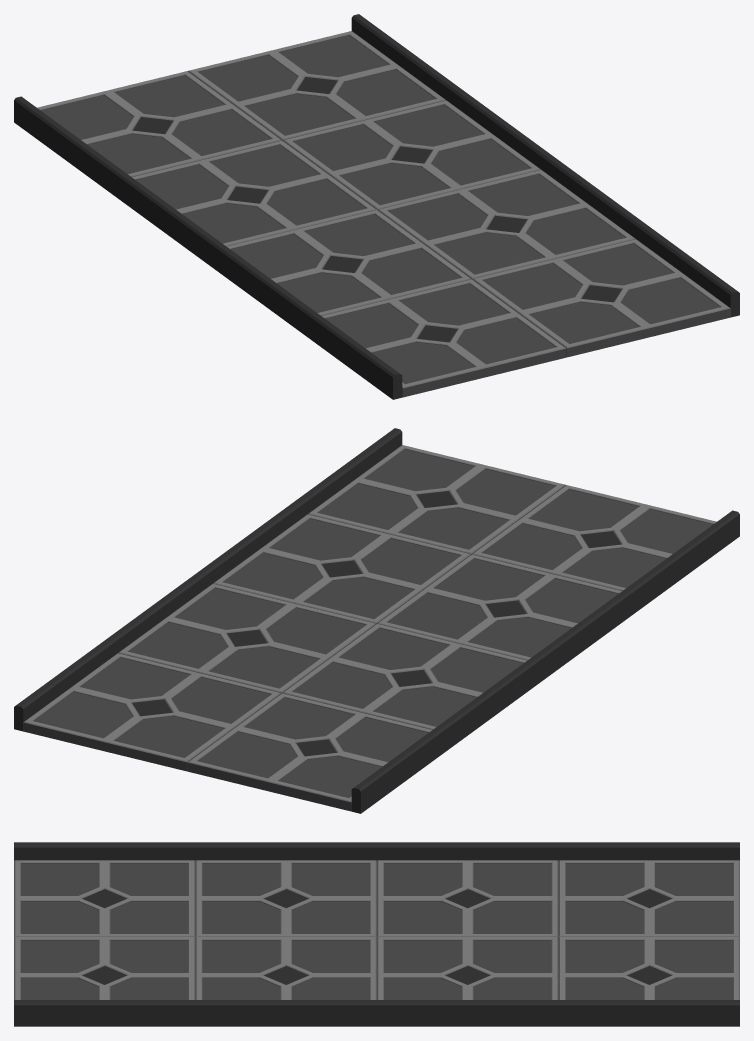
The model's file is Stone_Path_Straight_Variant2.fbx.
3 renders of one model, top to bottom at view 1: azimuth 30°, elevation 25°; view 2: azimuth 150°, elevation 25°; view 3: azimuth 270°, elevation 25°, orthographic. The views are drawn at different scales.
Visible parts, largest first — view 1: Stone_Path_Straight_Variant2; view 2: Stone_Path_Straight_Variant2; view 3: Stone_Path_Straight_Variant2.
Boxes of the visible parts, <box> form: Stone_Path_Straight_Variant2: <box>14,14,739,399</box>; Stone_Path_Straight_Variant2: <box>14,428,739,813</box>; Stone_Path_Straight_Variant2: <box>14,842,739,1026</box>.
Bounding box in the file's own units: 251 × 16.76 × 476.
